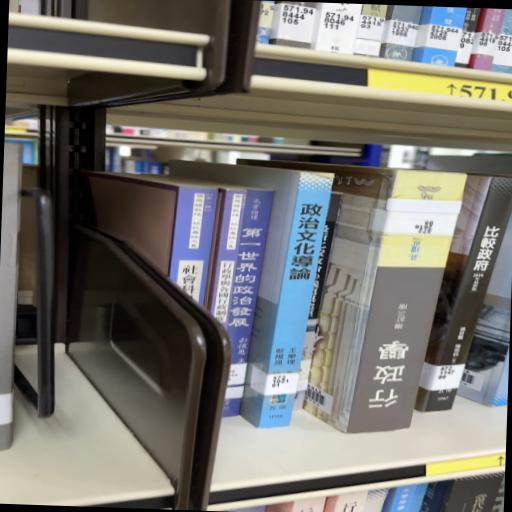reverse: (305, 166, 466, 433)
